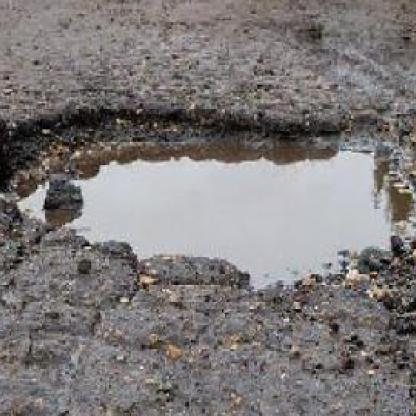pothole: (0, 97, 416, 298)
